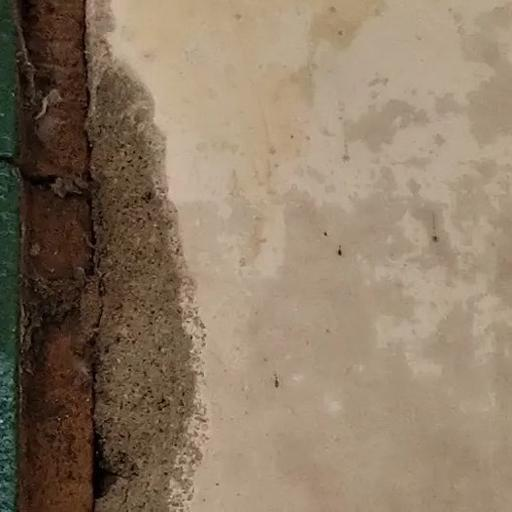spalling: (15, 0, 211, 512)
